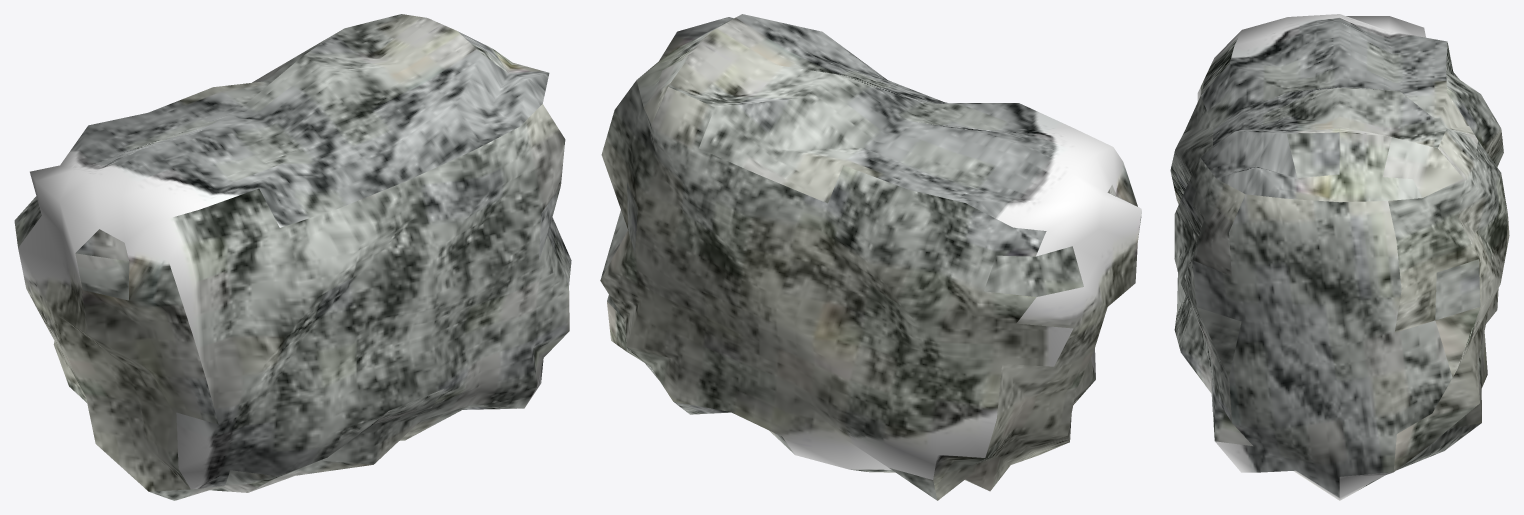
Rendered from Gneiss.fbx.
3 renders of one model, left to right at view 1: azimuth 30°, elevation 25°; view 2: azimuth 150°, elevation 25°; view 3: azimuth 270°, elevation 25°, orthographic. The views are drawn at different scales.
Visible parts, largest first — view 1: Plane; view 2: Plane; view 3: Plane.
Boxes of the visible parts, left/top/right/bottom form: Plane: left=14, top=14, right=571, bottom=500; Plane: left=600, top=14, right=1141, bottom=500; Plane: left=1170, top=14, right=1509, bottom=500.
Size of the model in its own units: 4.99 by 3.75 by 3.04.
